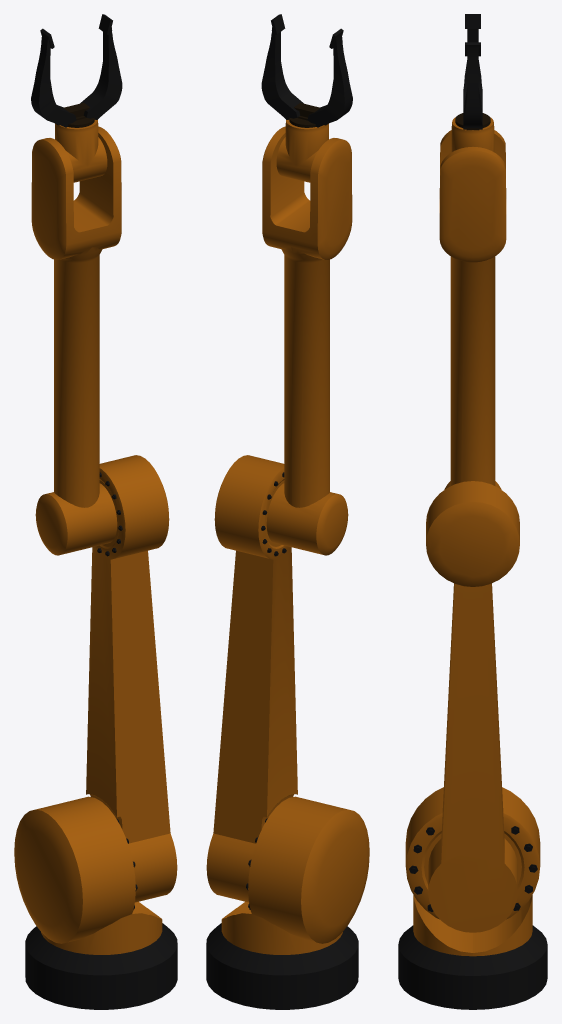
Rendered from arm.glb.
3 views of the same model, side by side, from view 1: azimuth 30°, elevation 25°; view 2: azimuth 150°, elevation 25°; view 3: azimuth 270°, elevation 25° (orthographic). The views are drawn at different scales.
Visible parts, largest first — view 1: LowerArm, UpperArm, RotatingBase, Base, FaceAttach, HolderArm, HolderArm.001, FaceRotator; view 2: LowerArm, UpperArm, RotatingBase, Base, FaceAttach, HolderArm, HolderArm.001, FaceRotator; view 3: LowerArm, UpperArm, RotatingBase, Base, HolderArm, FaceAttach, HolderArm.001, screws_base.
Part boxes in pixels (box(x1,y1,x2,y2)): LowerArm: box(86, 455, 177, 902); UpperArm: box(31, 126, 121, 555); RotatingBase: box(14, 796, 162, 954); Base: box(25, 923, 177, 1009); FaceAttach: box(55, 120, 107, 182); HolderArm: box(80, 14, 122, 119); HolderArm.001: box(31, 28, 76, 127); FaceRotator: box(55, 103, 94, 127); LowerArm: box(206, 455, 297, 902); UpperArm: box(262, 126, 352, 555); RotatingBase: box(221, 796, 369, 954); Base: box(206, 923, 358, 1009); FaceAttach: box(276, 120, 328, 182); HolderArm: box(261, 14, 303, 119); HolderArm.001: box(307, 28, 352, 127); FaceRotator: box(289, 103, 328, 127); LowerArm: box(426, 481, 519, 932); UpperArm: box(439, 130, 506, 489); RotatingBase: box(405, 787, 540, 956); Base: box(398, 925, 547, 1009); HolderArm: box(463, 42, 482, 129); FaceAttach: box(451, 117, 494, 151); HolderArm.001: box(463, 14, 482, 110); screws_base: box(409, 826, 537, 911).
Bounding box in the file's own units: 2 × 13.87 × 2.
